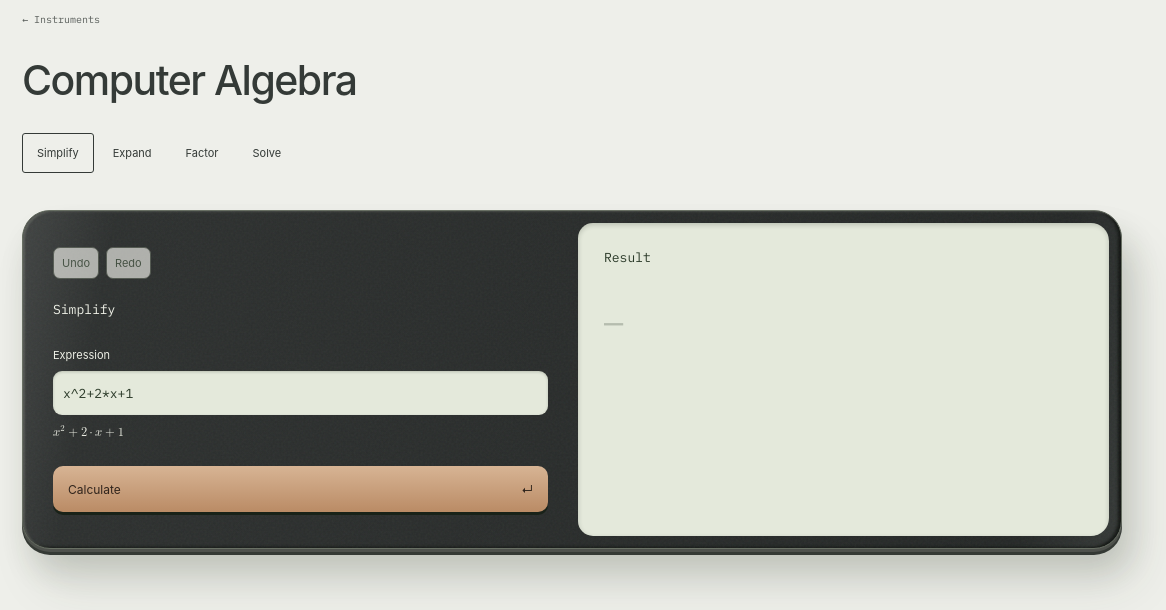
Scenario: terminates calculations after six seconds
This screenshot has width=1166, height=610.
Click the button "Calculate ↵" at (94, 489), box [53,466,548,512]
Wait 6000 ms
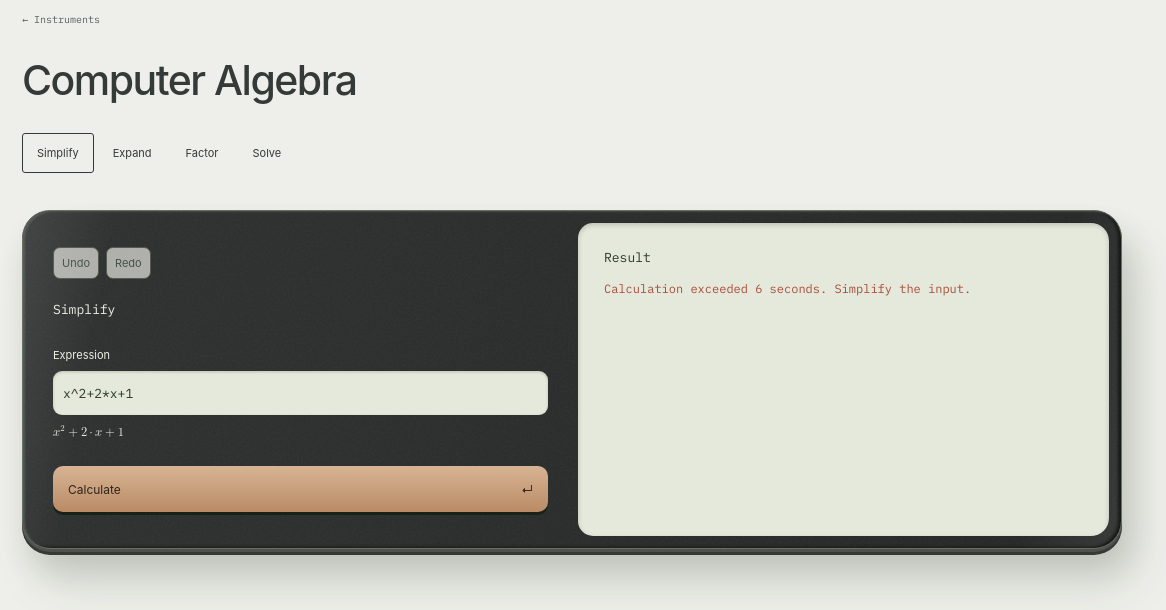
Check: the message shows "exceeded 6 seconds", box [604,281,971,296]
